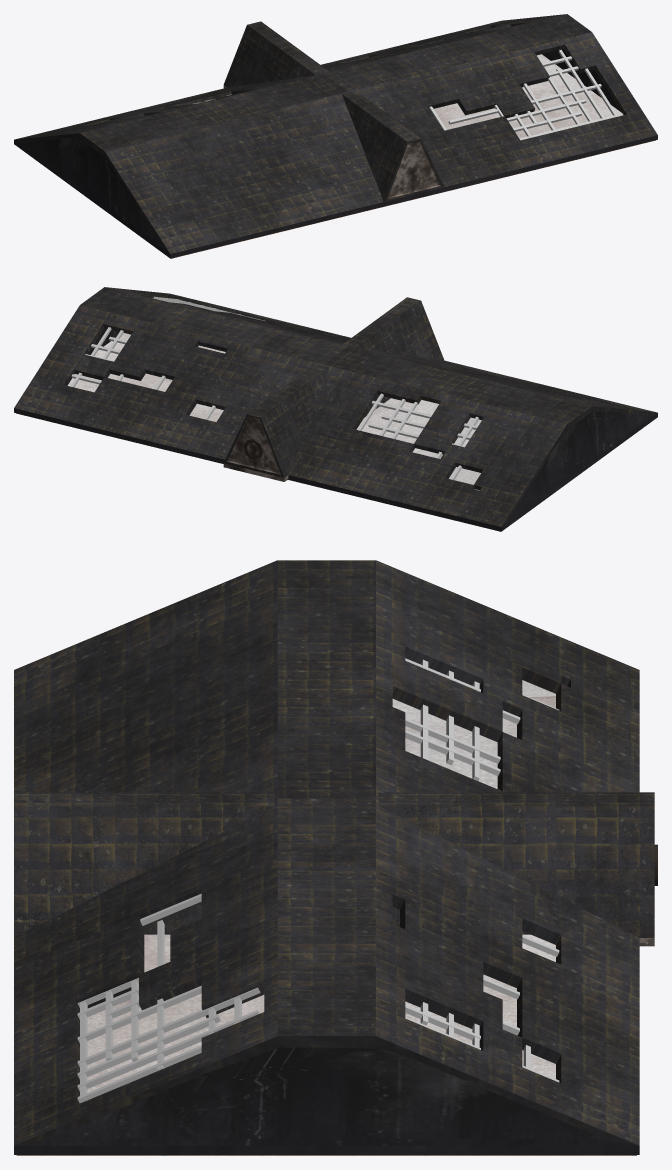
The model's file is 학교지붕.fbx.
3 views of the same model, one above another, from view 1: azimuth 30°, elevation 25°; view 2: azimuth 150°, elevation 25°; view 3: azimuth 270°, elevation 25° (orthographic). The views are drawn at different scales.
Parts seen in each view (by area): view 1: 지붕, 지붕2, 뼈대, 천장나무; view 2: 지붕, 지붕2, 뼈대, 천장나무; view 3: 지붕, 지붕2, 뼈대.
Boxes of the visible parts, bbox=[...] form: 지붕: bbox=[14, 14, 657, 258]; 지붕2: bbox=[223, 21, 444, 201]; 뼈대: bbox=[192, 49, 618, 140]; 천장나무: bbox=[171, 140, 655, 258]; 지붕: bbox=[14, 287, 657, 531]; 지붕2: bbox=[223, 297, 444, 481]; 뼈대: bbox=[70, 296, 478, 479]; 천장나무: bbox=[16, 413, 500, 531]; 지붕: bbox=[14, 560, 639, 1154]; 지붕2: bbox=[14, 792, 657, 946]; 뼈대: bbox=[77, 658, 559, 1103].
Bounding box in the file's own units: 4500 × 532 × 2574.
